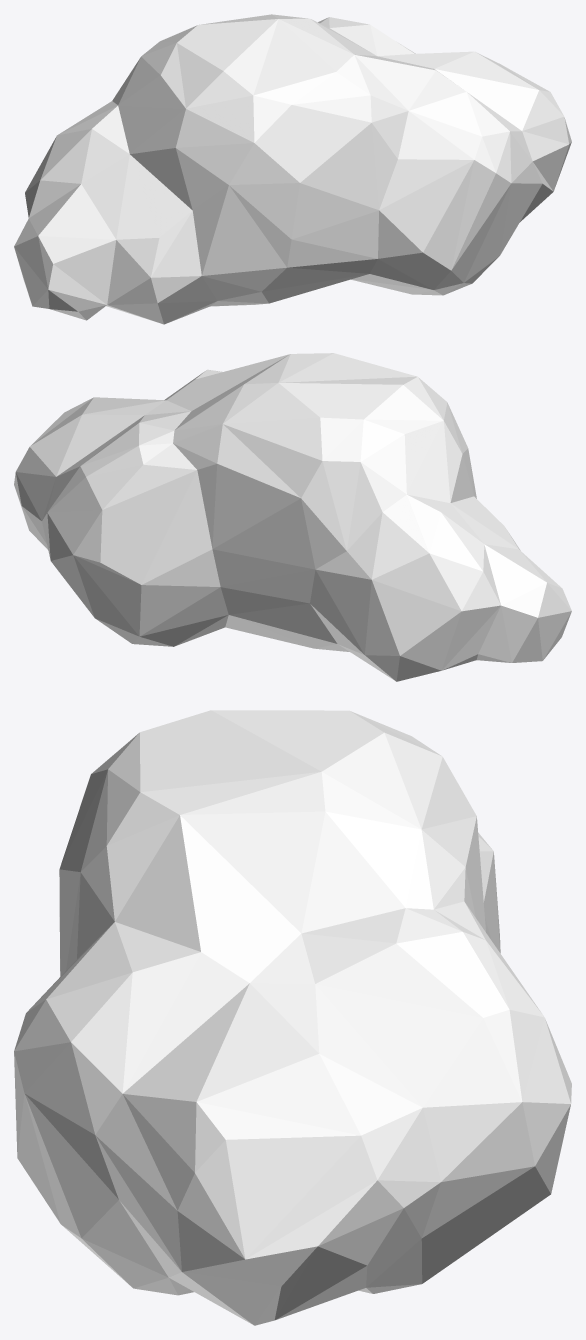
File: cloud.fbx
3 renders of one model, top to bottom at view 1: azimuth 30°, elevation 25°; view 2: azimuth 150°, elevation 25°; view 3: azimuth 270°, elevation 25°, orthographic. The views are drawn at different scales.
Visible parts, largest first — view 1: cloud; view 2: cloud; view 3: cloud.
Boxes of the visible parts, box(x1,y1,x2,y2) form: cloud: box(14, 14, 571, 324); cloud: box(14, 353, 571, 681); cloud: box(14, 710, 571, 1325).
Size of the model in its own units: 4.38 by 2.09 by 2.48.
1 material, 1 textured.
